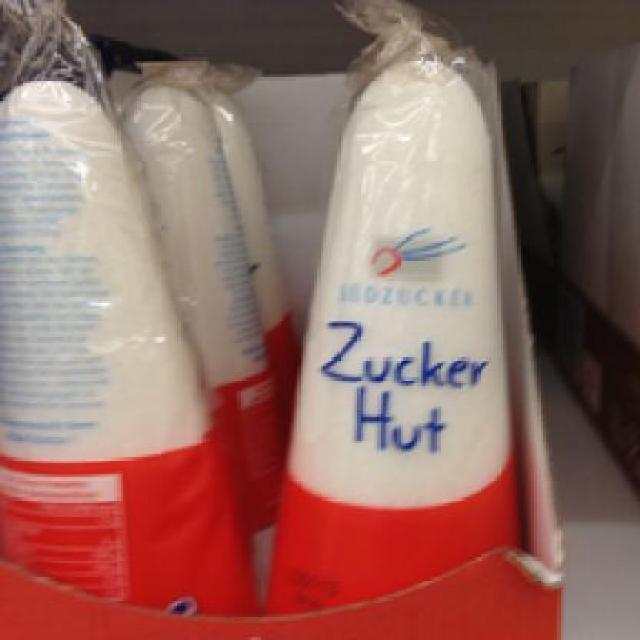Sugar: (251, 46, 520, 608), (0, 77, 249, 606), (126, 71, 283, 520)
